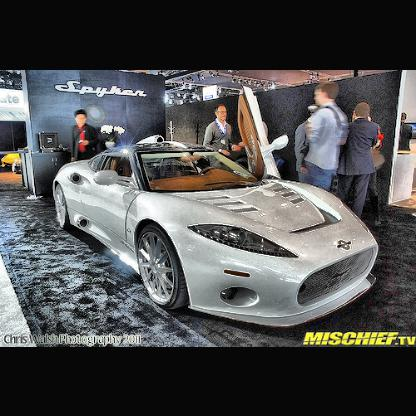Spyker C8 Coupe 2009: (51, 85, 379, 338)
